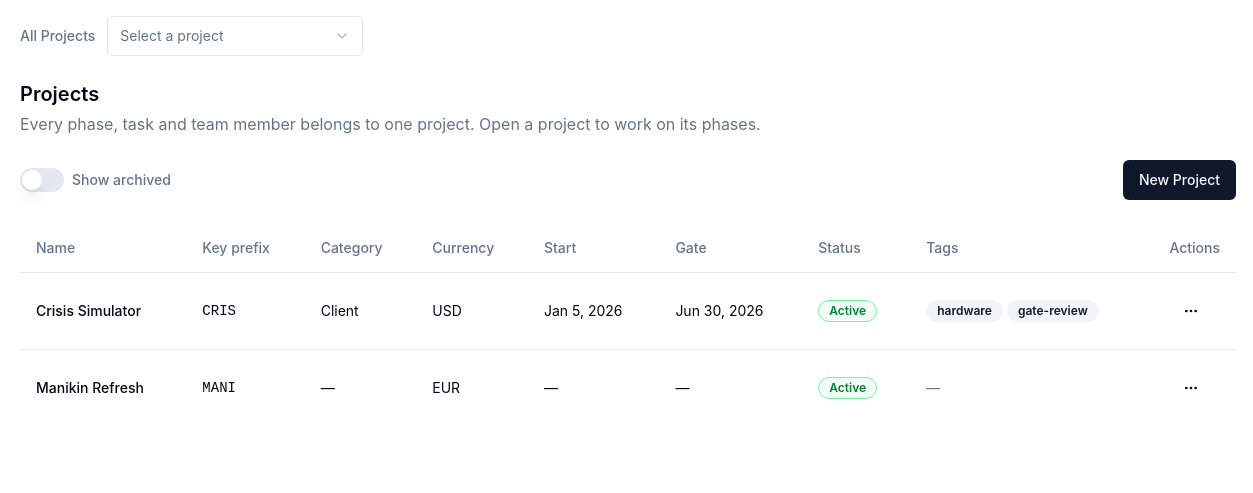
Test: Projects screen › hides archived projects until the Show archived switch is on
The image size is (1253, 493).
Expected: the text "Crisis Simulator" is shown, [20,272,186,349]
Expected: the text "Legacy Rig" is not shown
Click the switch named "Show archived": (42, 180) [20,168,64,192]
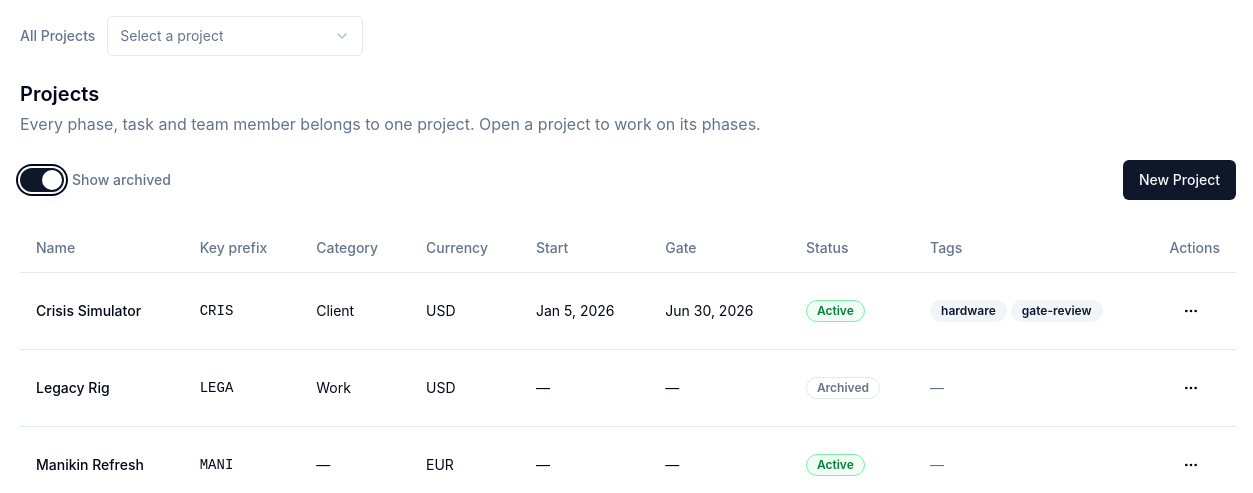
Expected: the text "Legacy Rig" is shown, [20,349,184,426]
Expected: the text "Archived" is shown, [806,376,880,398]
